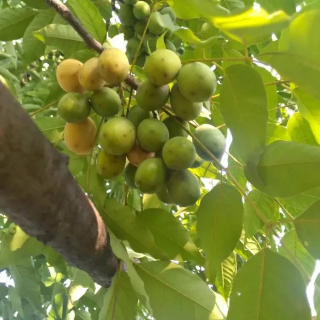coc: (99, 116, 135, 155), (144, 50, 180, 83), (134, 157, 166, 194), (163, 136, 195, 170), (99, 48, 128, 85), (58, 92, 90, 122)
